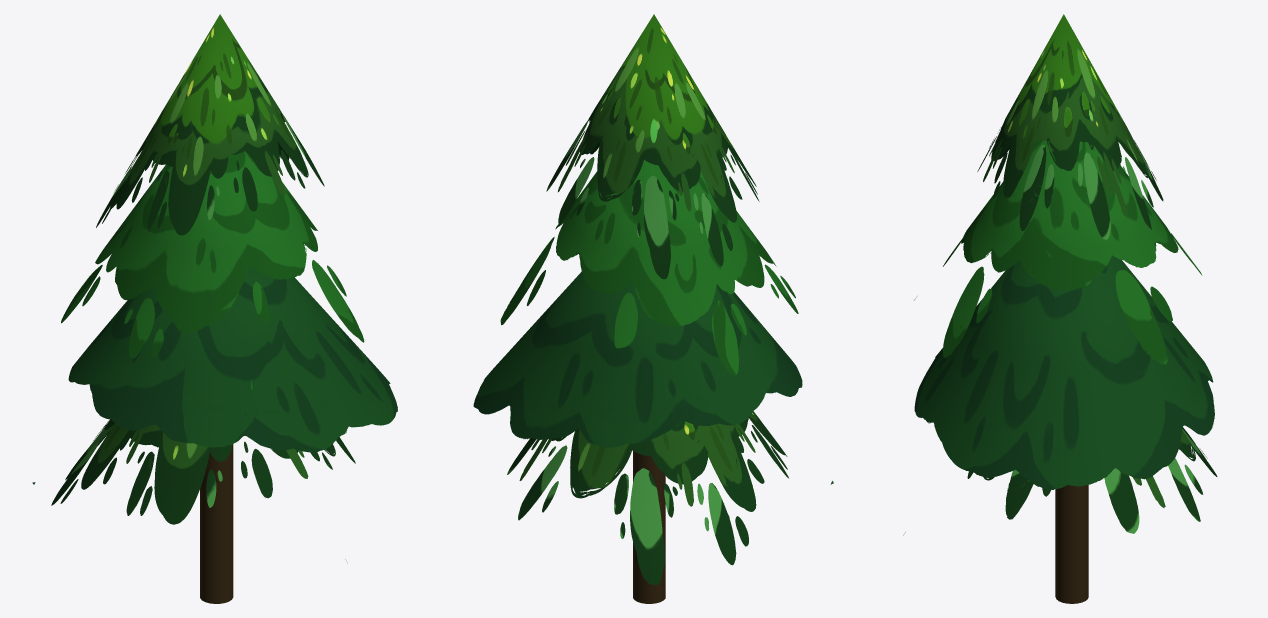
The model's file is Tree.fbx.
3 views of the same model, side by side, from view 1: azimuth 30°, elevation 25°; view 2: azimuth 150°, elevation 25°; view 3: azimuth 270°, elevation 25° (orthographic).
Visible parts, largest first — view 1: Bottom_Layer_A, Middle_Layer, Top_Layer, Bottom_Layer_B, Trunk; view 2: Bottom_Layer_A, Top_Layer, Middle_Layer, Bottom_Layer_B, Trunk; view 3: Bottom_Layer_A, Middle_Layer, Top_Layer, Bottom_Layer_B, Trunk.
Part boxes in pixels (x1=…): Bottom_Layer_A: x1=32, y1=266, x2=397, y2=484; Middle_Layer: x1=61, y1=151, x2=364, y2=389; Top_Layer: x1=96, y1=14, x2=324, y2=235; Bottom_Layer_B: x1=51, y1=419, x2=355, y2=563; Trunk: x1=200, y1=444, x2=233, y2=603; Bottom_Layer_A: x1=473, y1=271, x2=833, y2=484; Top_Layer: x1=546, y1=14, x2=759, y2=279; Middle_Layer: x1=500, y1=160, x2=798, y2=375; Bottom_Layer_B: x1=507, y1=411, x2=788, y2=584; Trunk: x1=633, y1=451, x2=665, y2=603; Bottom_Layer_A: x1=914, y1=255, x2=1214, y2=489; Middle_Layer: x1=914, y1=140, x2=1202, y2=365; Top_Layer: x1=977, y1=14, x2=1163, y2=239; Bottom_Layer_B: x1=903, y1=427, x2=1217, y2=535; Trunk: x1=1055, y1=485, x2=1088, y2=603.
Bounding box in the file's own units: 123 × 187 × 108.
